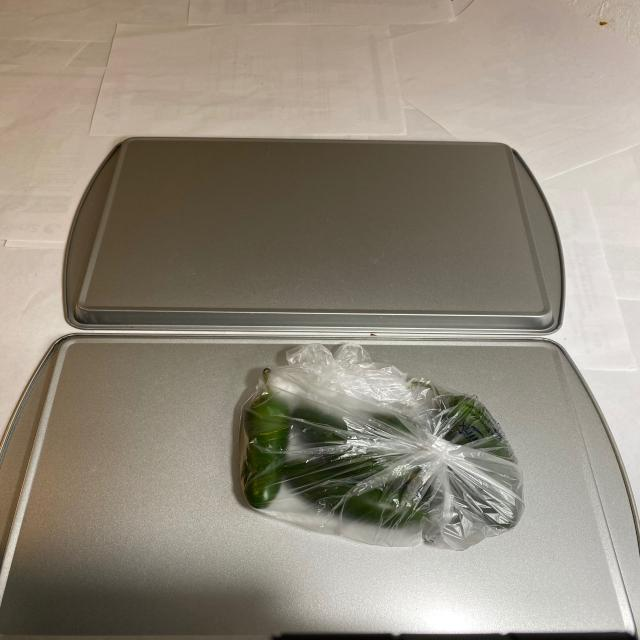chilli: (231, 367, 524, 545)
